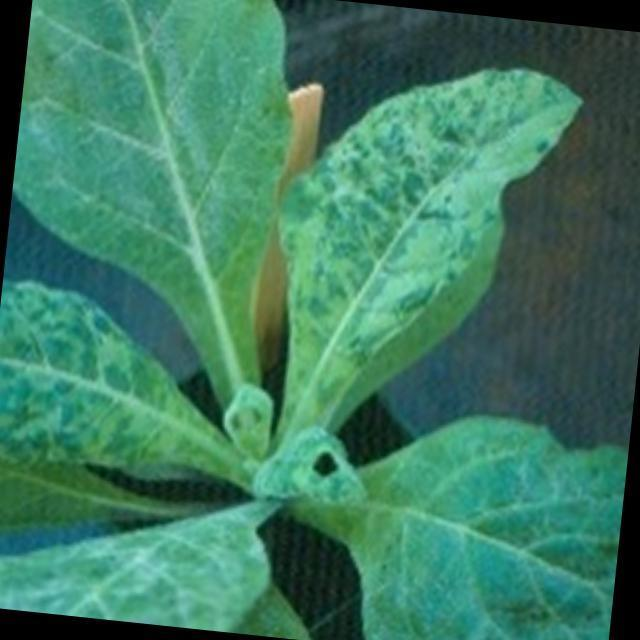Mosaic Virus: (263, 46, 591, 418), (366, 420, 628, 640), (0, 469, 298, 637), (0, 286, 234, 463)
